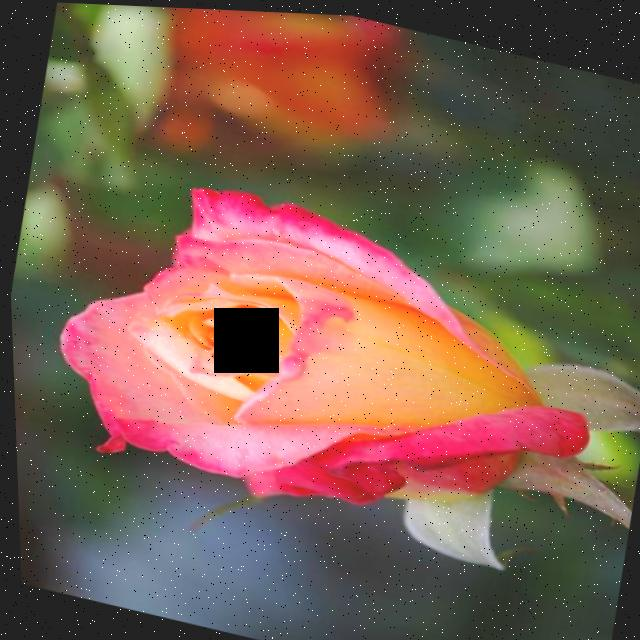rose: (4, 143, 640, 626)
